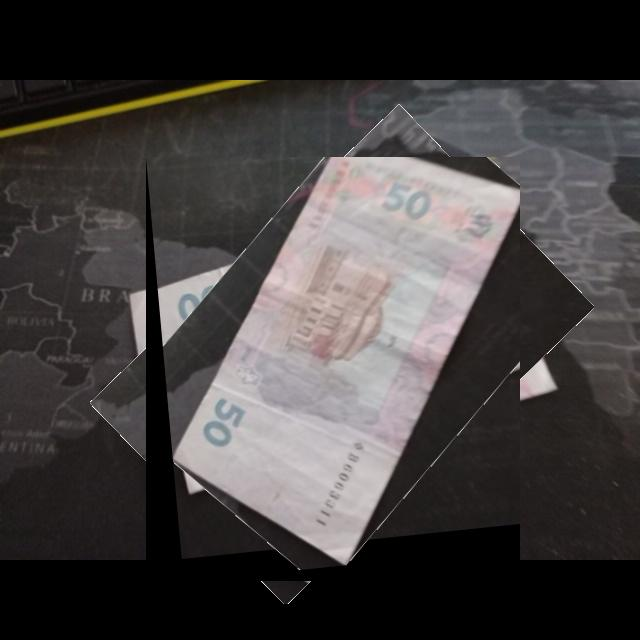50uah: (168, 157, 521, 570)
